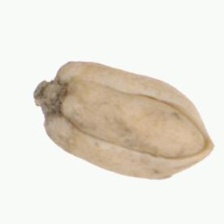L1: (184, 111, 214, 168), (31, 73, 68, 118)
L2: (32, 62, 214, 179)
